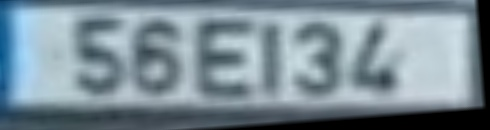3: (290, 19, 348, 102)
4: (348, 18, 409, 102)
5: (71, 18, 131, 101)
6: (129, 15, 188, 103)
E: (190, 21, 259, 102)
I: (261, 20, 290, 102)
